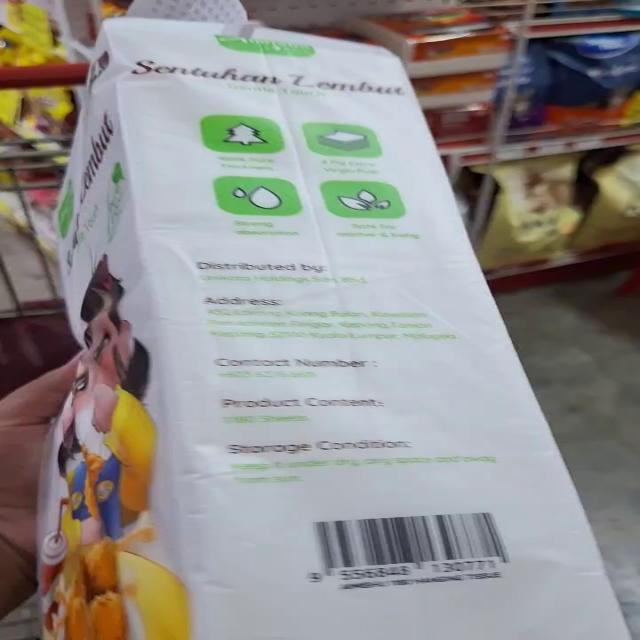Tisu: (27, 256, 620, 640), (44, 0, 469, 302)
